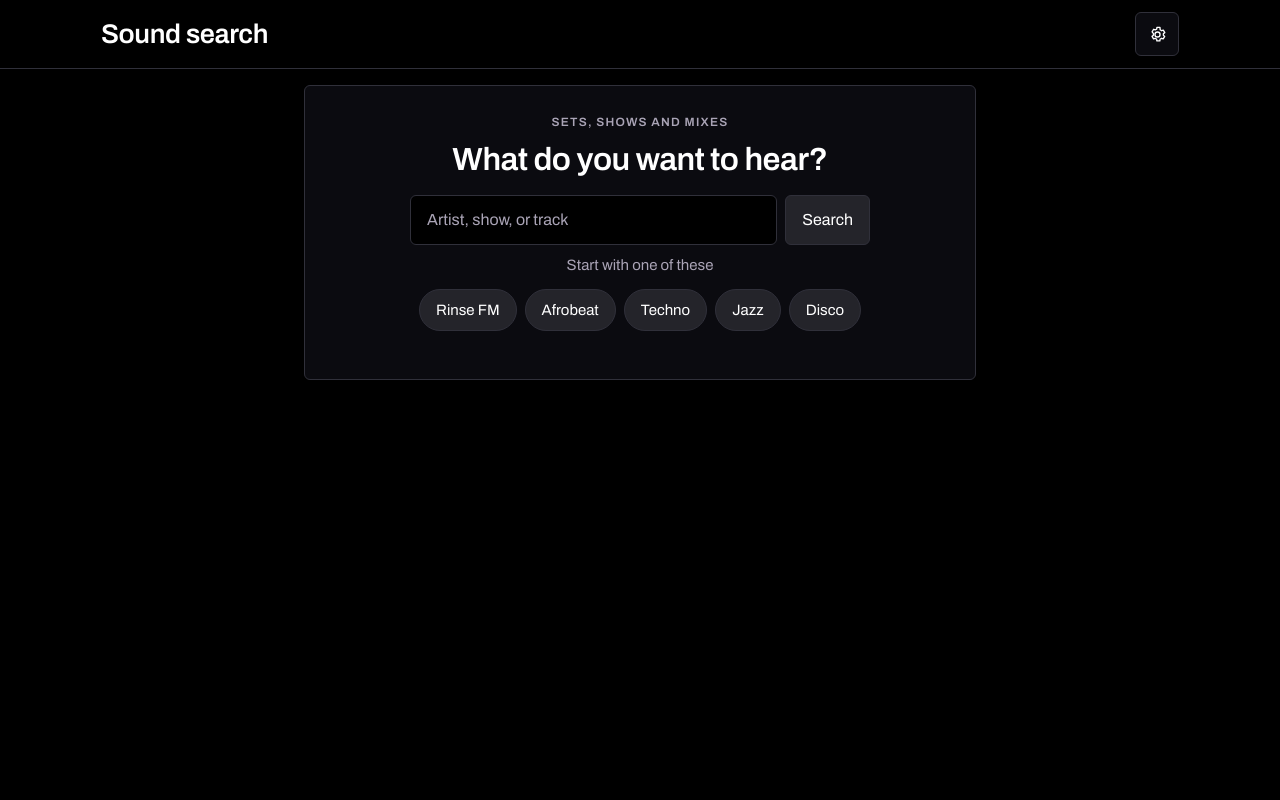
Test: App › announces what the search did
In the search field named "search tracks": (594, 220) [410, 195, 777, 245], type "adele"
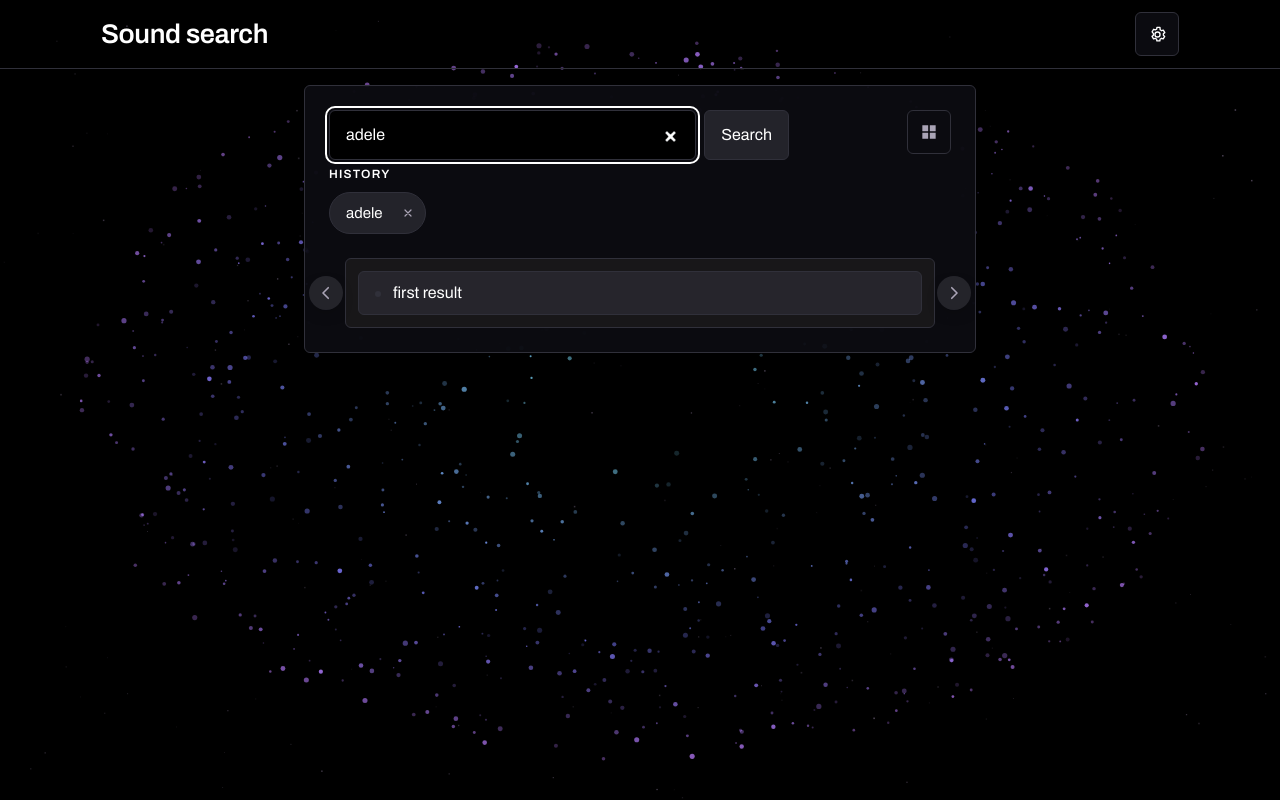
Result: the button "first result" is shown at [358, 271, 922, 315]
